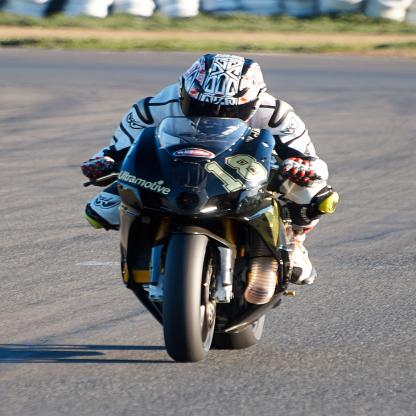Helmet: (176, 57, 266, 119)
